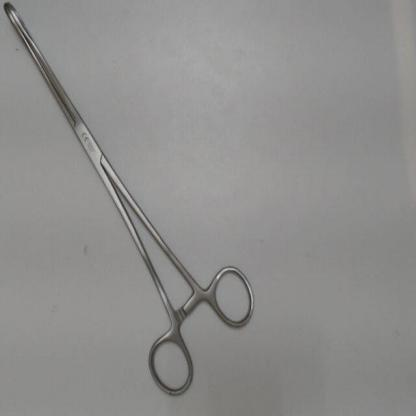Sponge Forceps: (1, 0, 263, 403)
